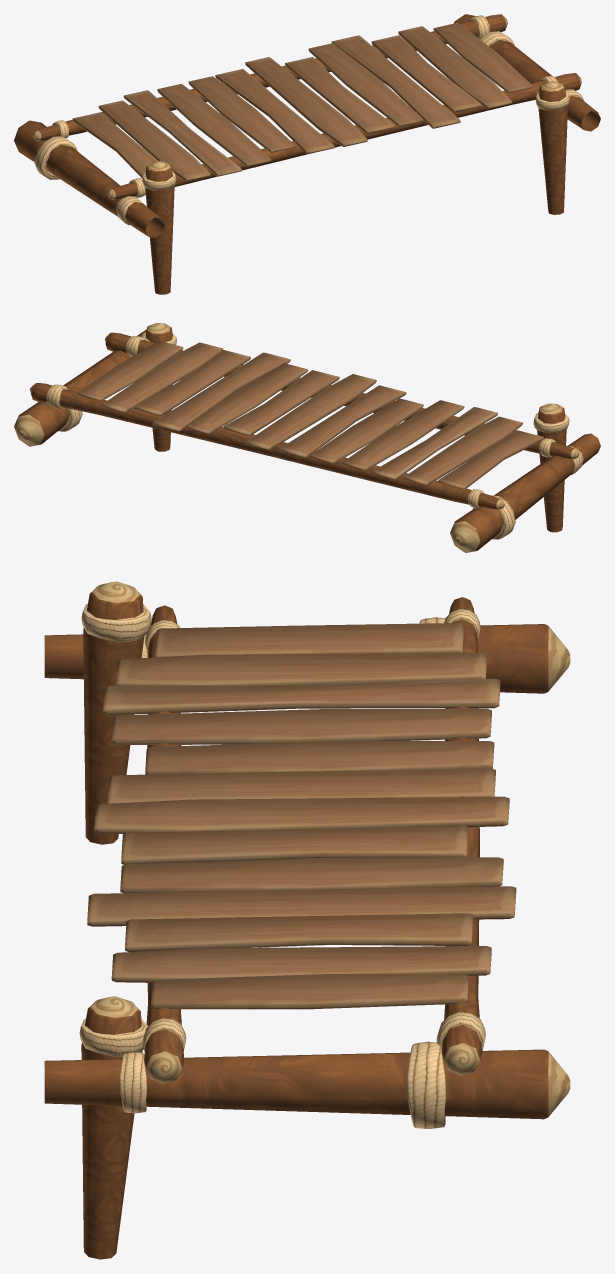
The model's file is Crankshaft_Top.fbx.
3 renders of one model, top to bottom at view 1: azimuth 30°, elevation 25°; view 2: azimuth 150°, elevation 25°; view 3: azimuth 270°, elevation 25°, orthographic. The views are drawn at different scales.
Visible parts, largest first — view 1: polySurface913; view 2: polySurface913; view 3: polySurface913.
Part boxes in pixels (x1,y1,x2,y2): polySurface913: (14,14,600,294); polySurface913: (14,323,600,552); polySurface913: (44,581,570,1259).
Size of the model in its own units: 74.19 by 21.28 by 35.46.
